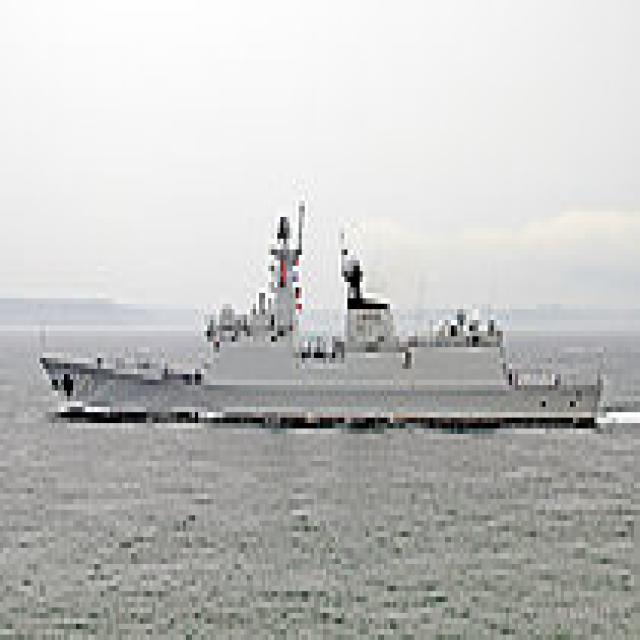Warship: (31, 195, 600, 428)
